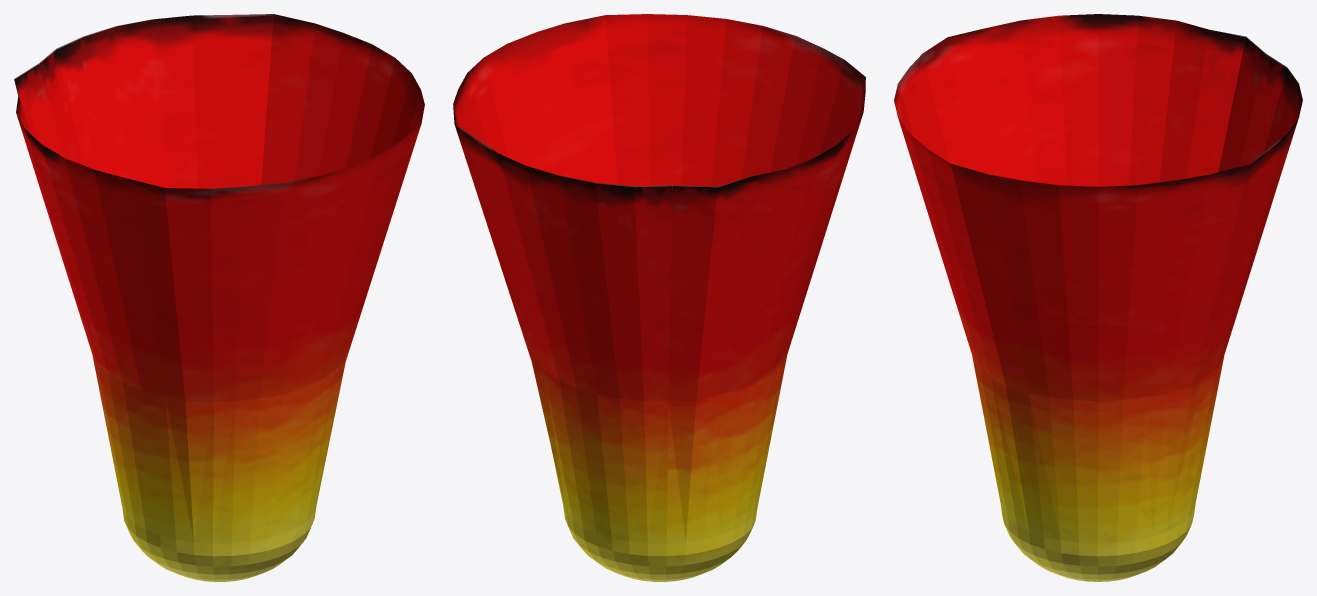
File: entry_pod_flame.obj
3 views of the same model, side by side, from view 1: azimuth 30°, elevation 25°; view 2: azimuth 150°, elevation 25°; view 3: azimuth 270°, elevation 25° (orthographic).
Visible parts, largest first — view 1: Flame_Sphere; view 2: Flame_Sphere; view 3: Flame_Sphere.
Part boxes in pixels (x1,y1,x2,y2): Flame_Sphere: [14, 14, 424, 581]; Flame_Sphere: [453, 14, 865, 581]; Flame_Sphere: [894, 14, 1302, 581].
Bounding box in the file's own units: 6.62 × 8.39 × 6.62.
